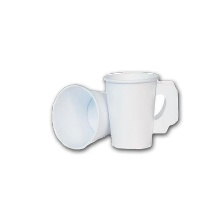paper_cup: (99, 65, 186, 155), (45, 79, 123, 153)
